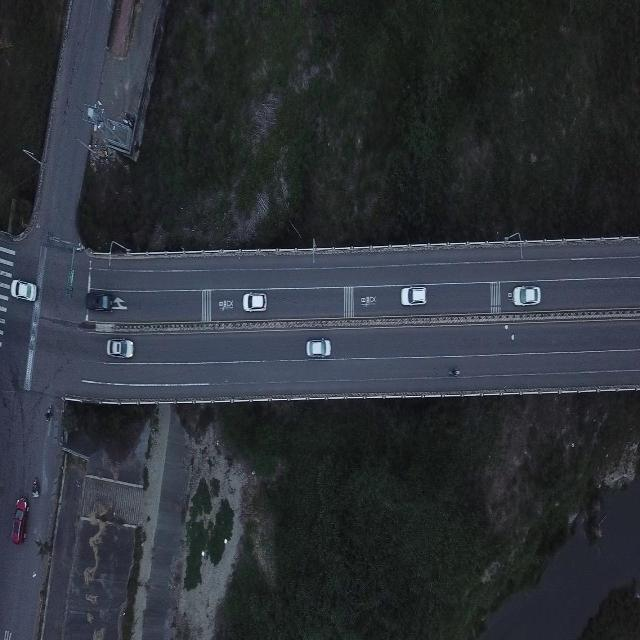bike: (29, 477, 40, 498), (44, 404, 52, 421)
car: (83, 289, 117, 315), (11, 496, 29, 544), (400, 282, 429, 309), (509, 284, 544, 304), (10, 278, 37, 302), (305, 338, 333, 361), (241, 291, 268, 312), (106, 338, 134, 358)
